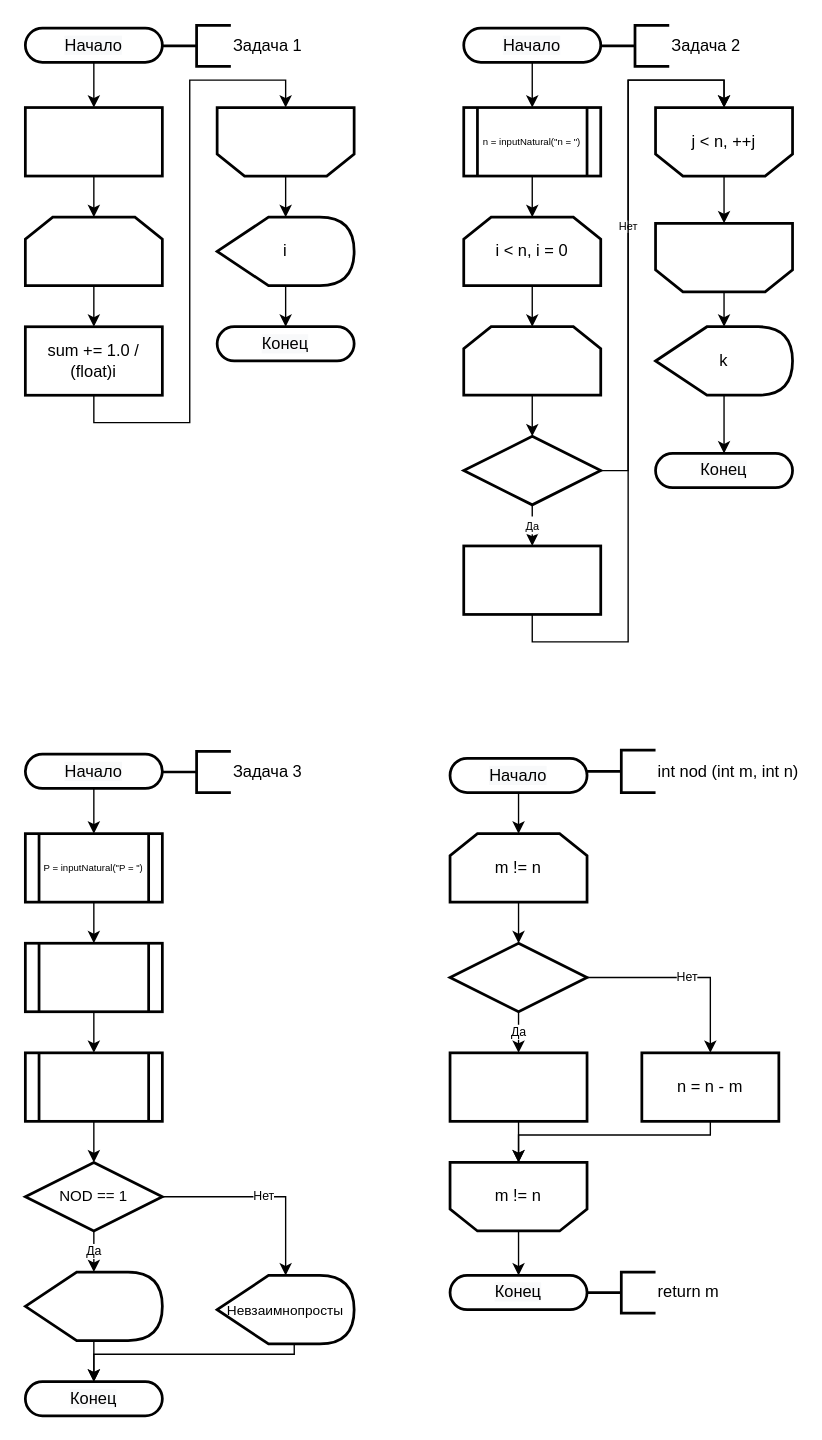
Some shapes in this 822 by 1440 pixel diagram are drawn without their labels. Here are the shapes that lost their labels. From the top down, the box of each, then its label:
(23, 105, 163, 177): sum = 0
(215, 105, 355, 177): sum <= 5, ++i
(23, 215, 163, 286): sum <= 5, i = 1
(653, 221, 793, 292): i < n, ++i
(462, 325, 601, 396): j < n, j = 0
(462, 434, 601, 506): i*i*i + j*j*j == n
(462, 544, 601, 615): ++k
(23, 941, 163, 1012): Q = inputNatural("Q = ")
(448, 941, 588, 1012): m > n
(23, 1051, 163, 1122): NOD = nod(P, Q)
(448, 1051, 588, 1122): m = m - n
(23, 1270, 163, 1341): взаимнопросты
